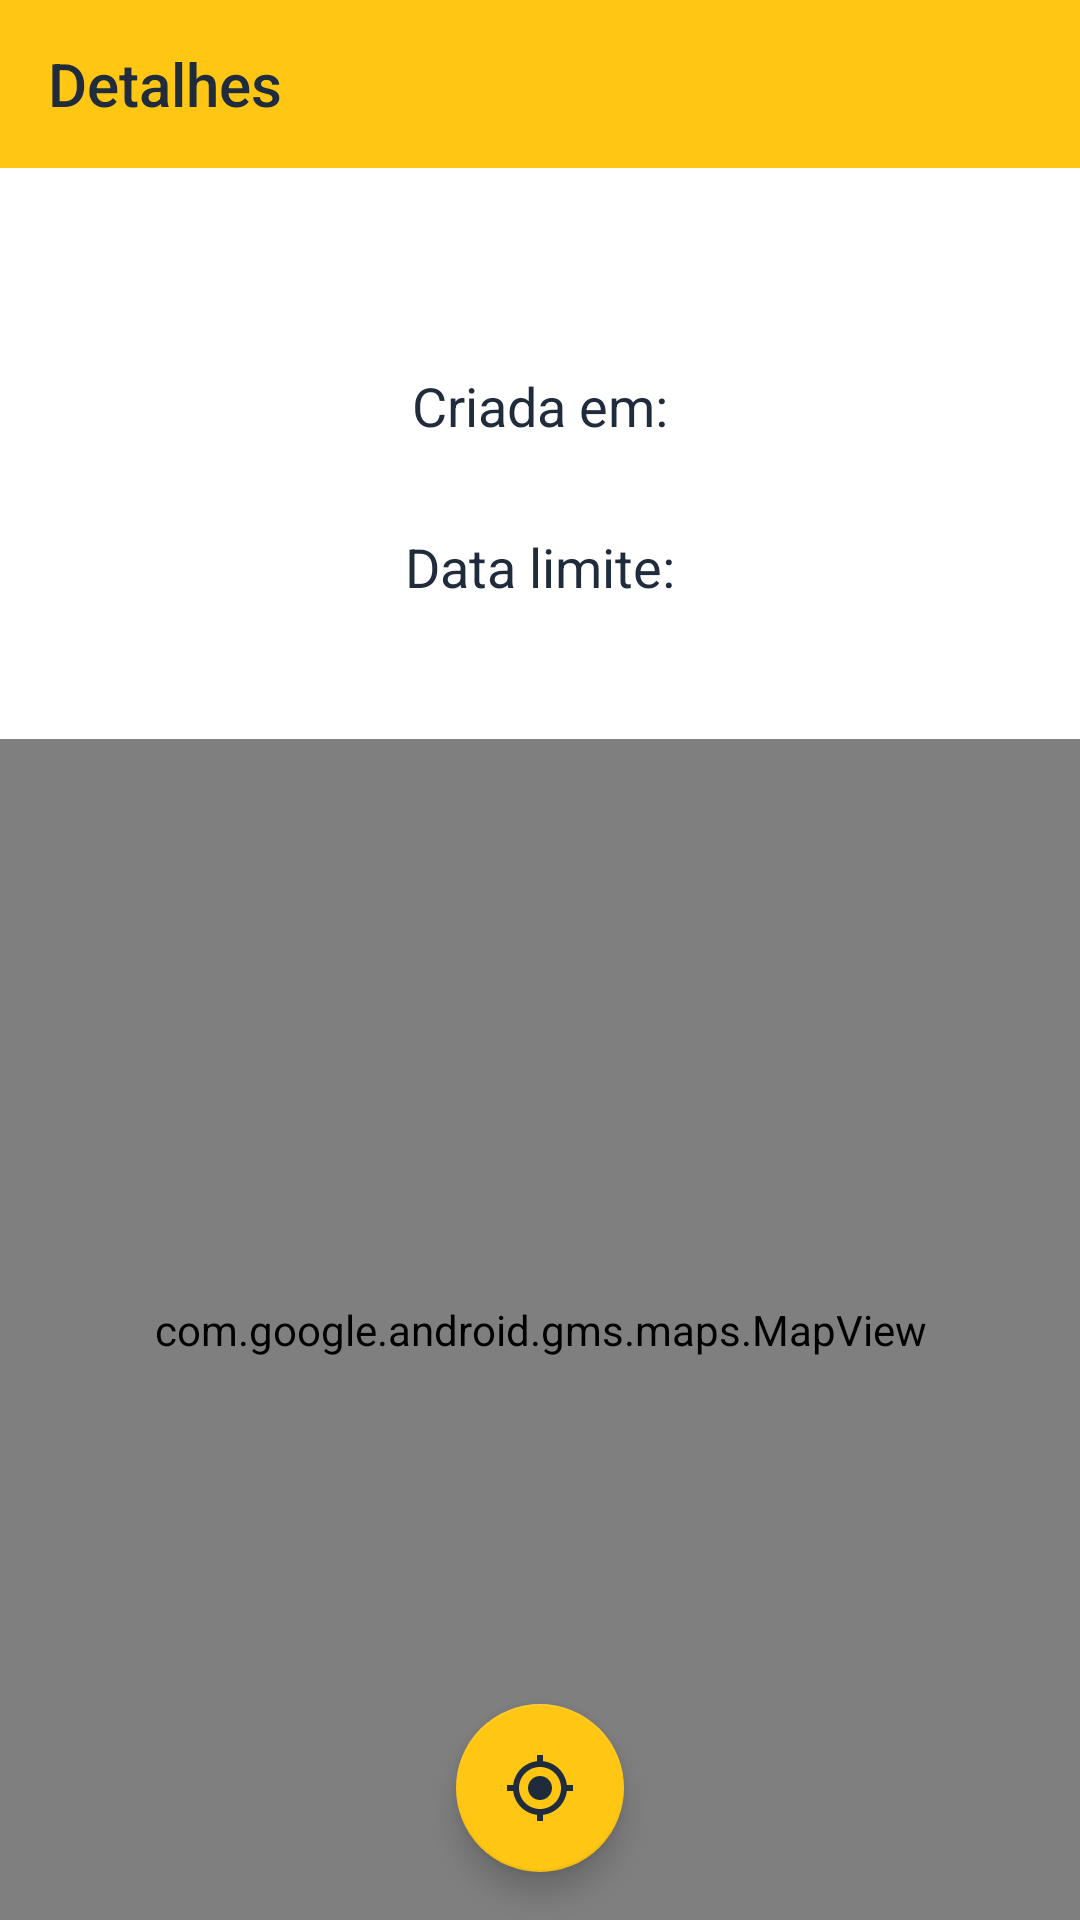

Where to tap for icons on this 1080x1920 app screen, as point (x, y):
location: point (540, 1788)
